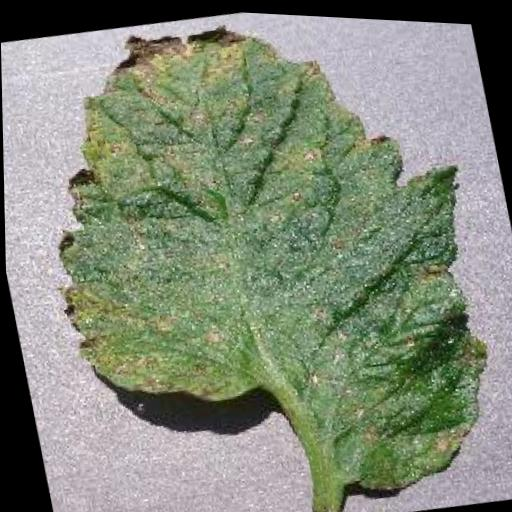Septoria: (12, 0, 511, 512)
